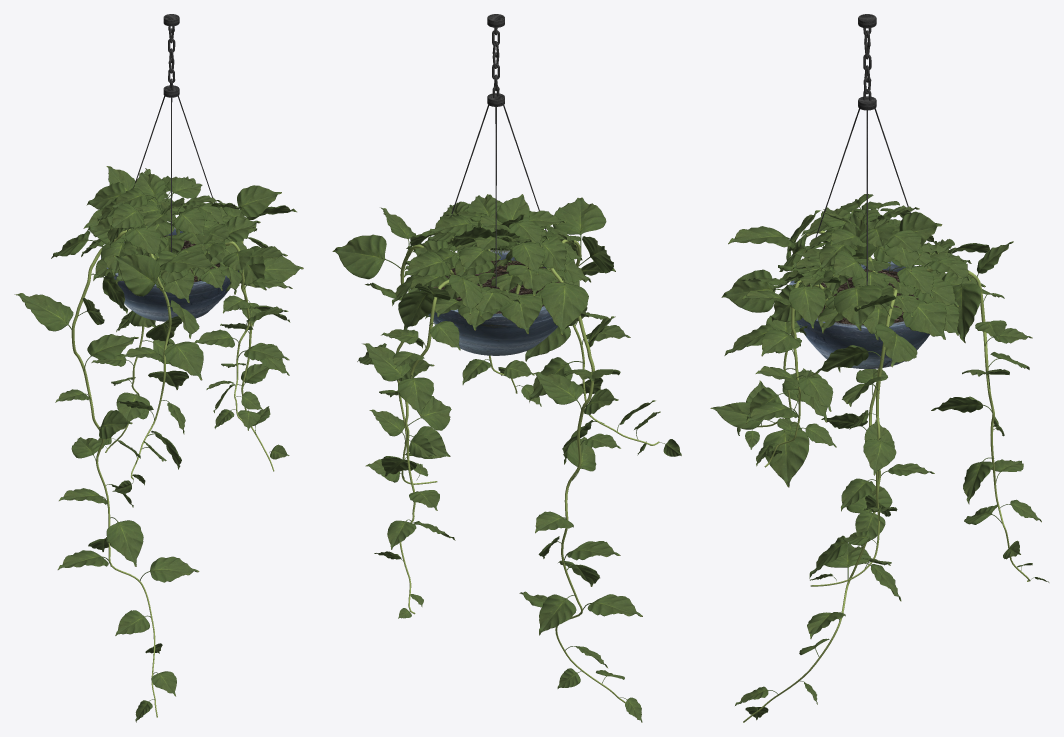
File: house_plants_hanging_pot-transformed.glb
3 renders of one model, left to right at view 1: azimuth 30°, elevation 25°; view 2: azimuth 150°, elevation 25°; view 3: azimuth 270°, elevation 25°, orthographic. The views are drawn at different scales.
Visible parts, largest first — view 1: Plant hanging N050922_Leaf.001_0, Plant hanging N050922_Stem_0, Plant hanging N050922_Ceramic_0, Plant hanging N050922_Metal_0; view 2: Plant hanging N050922_Leaf.001_0, Plant hanging N050922_Ceramic_0, Plant hanging N050922_Stem_0, Plant hanging N050922_Metal_0, Plant hanging N050922_Ground_0; view 3: Plant hanging N050922_Leaf.001_0, Plant hanging N050922_Stem_0, Plant hanging N050922_Ceramic_0, Plant hanging N050922_Metal_0.
Boxes of the visible parts, x1=… form: Plant hanging N050922_Leaf.001_0: x1=14, y1=166, x2=303, y2=722; Plant hanging N050922_Stem_0: x1=71, y1=207, x2=274, y2=717; Plant hanging N050922_Ceramic_0: x1=101, y1=227, x2=238, y2=321; Plant hanging N050922_Metal_0: x1=133, y1=14, x2=214, y2=252; Plant hanging N050922_Leaf.001_0: x1=332, y1=194, x2=681, y2=722; Plant hanging N050922_Ceramic_0: x1=420, y1=250, x2=557, y2=355; Plant hanging N050922_Stem_0: x1=396, y1=239, x2=659, y2=703; Plant hanging N050922_Metal_0: x1=451, y1=14, x2=546, y2=313; Plant hanging N050922_Ground_0: x1=433, y1=260, x2=559, y2=313; Plant hanging N050922_Leaf.001_0: x1=710, y1=194, x2=1049, y2=720; Plant hanging N050922_Stem_0: x1=743, y1=230, x2=1030, y2=722; Plant hanging N050922_Ceramic_0: x1=789, y1=261, x2=929, y2=368; Plant hanging N050922_Metal_0: x1=815, y1=14, x2=910, y2=285.
Size of the model in its own units: 9.28 by 22.12 by 9.09.
5 materials, 5 textured.
